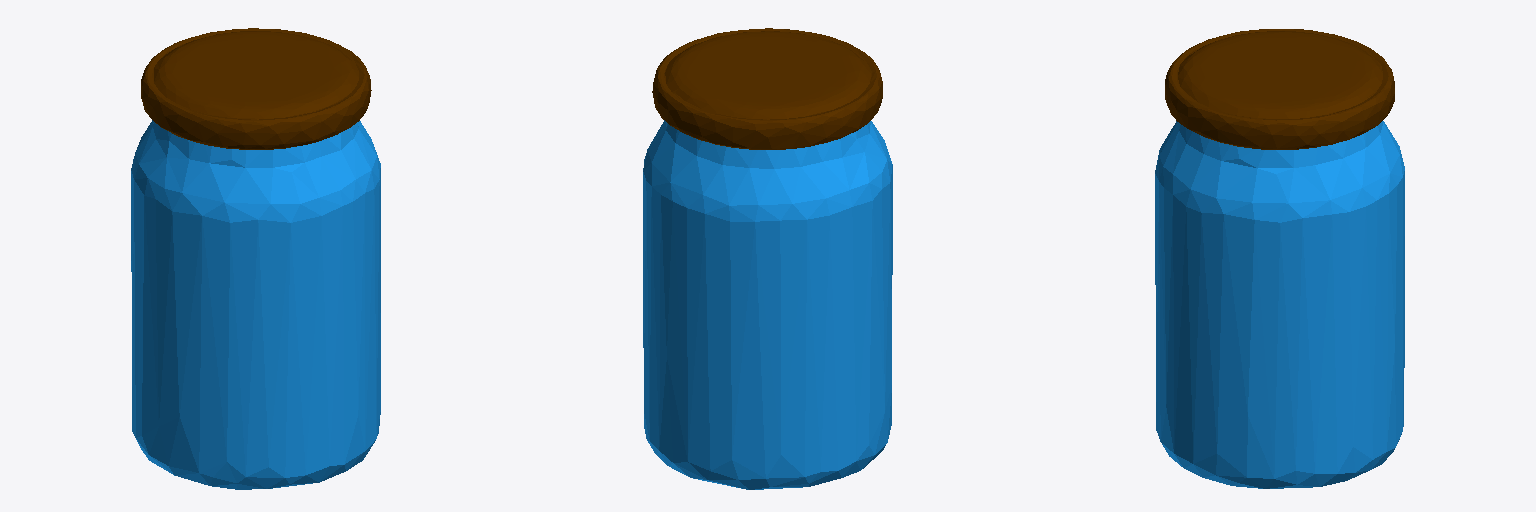
Rendered from sloik.obj.
3 views of the same model, side by side, from view 1: azimuth 30°, elevation 25°; view 2: azimuth 150°, elevation 25°; view 3: azimuth 270°, elevation 25° (orthographic).
Parts seen in each view (by area): view 1: Walec_Walec.003, Walec.001_Walec.002; view 2: Walec_Walec.003, Walec.001_Walec.002; view 3: Walec_Walec.003, Walec.001_Walec.002.
Part boxes in pixels (x1,y1,x2,y2): Walec_Walec.003: (131, 120, 380, 489); Walec.001_Walec.002: (141, 28, 371, 149); Walec_Walec.003: (643, 120, 892, 489); Walec.001_Walec.002: (652, 28, 882, 149); Walec_Walec.003: (1155, 121, 1404, 488); Walec.001_Walec.002: (1165, 29, 1394, 149).
Bounding box in the file's own units: 2.58 × 4.26 × 2.59.